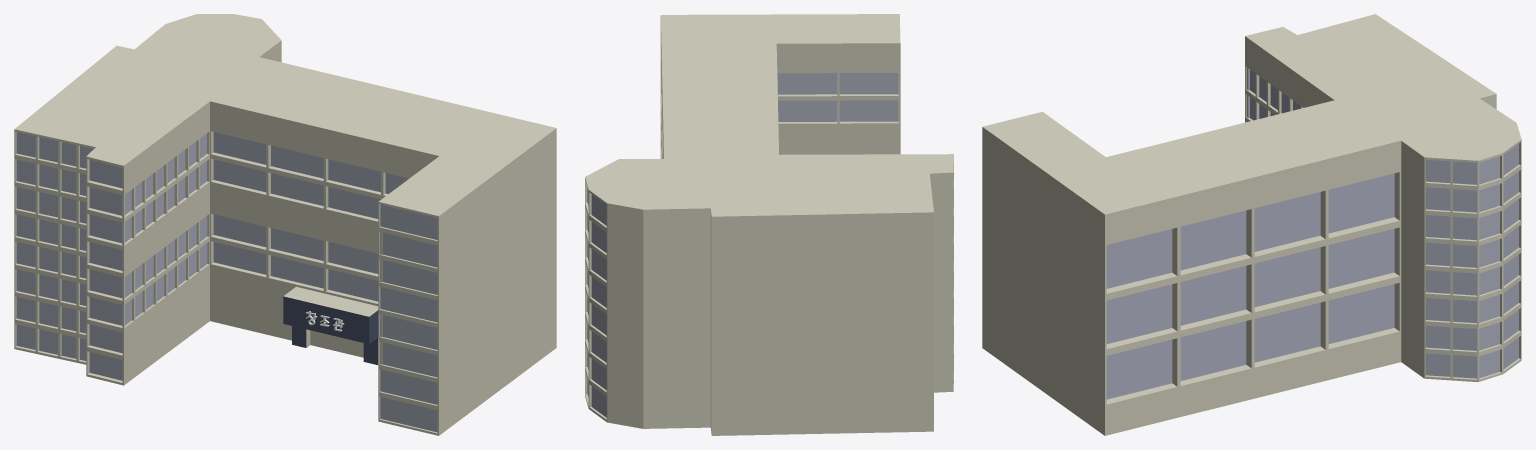
3 views of the same model, side by side, from view 1: azimuth 30°, elevation 25°; view 2: azimuth 150°, elevation 25°; view 3: azimuth 270°, elevation 25° (orthographic).
Parts seen in each view (by area): view 1: B; view 2: B; view 3: B.
Part boxes in pixels (left/top/right/bottom): B: left=14, top=14, right=556, bottom=435; B: left=585, top=14, right=953, bottom=435; B: left=982, top=14, right=1521, bottom=435.
Size of the model in its own units: 7773 by 4000 by 8831.
